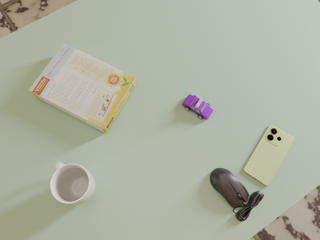box: (29, 44, 136, 133)
cup: (50, 161, 95, 205)
mouse: (210, 168, 264, 222)
phone: (244, 125, 294, 186)
toy_car: (182, 95, 213, 120)
